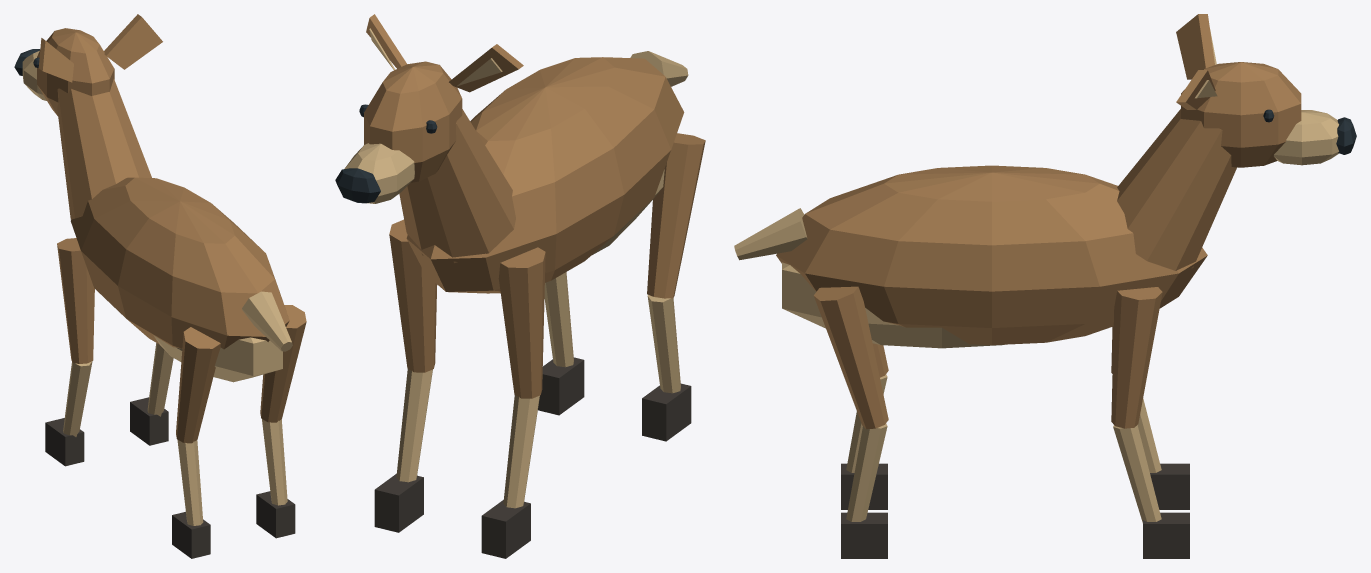
The model's file is deer-v3.glb.
3 renders of one model, left to right at view 1: azimuth 30°, elevation 25°; view 2: azimuth 150°, elevation 25°; view 3: azimuth 270°, elevation 25°, orthographic. The views are drawn at different scales.
Parts seen in each view (by area): view 1: Body, Neck, LegBL, LegFL, LegBR, Head, LegFR, EarR, Tail, EarL; view 2: Body, Head, LegFL, LegBL, Neck, LegFR, LegBR, EarL, EarR, Tail; view 3: Body, Neck, Head, LegBR, LegFR, LegFL, LegBL, Tail, EarL, EarR.
Part boxes in pixels (x1=…): Body: x1=70, y1=177, x2=289, y2=382; Neck: x1=57, y1=79, x2=151, y2=219; LegBL: x1=172, y1=327, x2=220, y2=558; LegFL: x1=45, y1=238, x2=94, y2=466; LegBR: x1=256, y1=305, x2=306, y2=538; Head: x1=14, y1=28, x2=114, y2=115; LegFR: x1=130, y1=343, x2=173, y2=445; EarR: x1=104, y1=14, x2=162, y2=69; Tail: x1=242, y1=291, x2=292, y2=351; EarL: x1=38, y1=38, x2=73, y2=82; Body: x1=406, y1=57, x2=684, y2=293; Head: x1=335, y1=61, x2=462, y2=203; LegFL: x1=481, y1=247, x2=545, y2=558; LegBL: x1=642, y1=133, x2=705, y2=441; Neck: x1=399, y1=109, x2=515, y2=263; LegFR: x1=374, y1=219, x2=437, y2=532; LegBR: x1=538, y1=272, x2=584, y2=415; EarL: x1=449, y1=44, x2=523, y2=92; EarR: x1=366, y1=14, x2=406, y2=70; Tail: x1=630, y1=51, x2=688, y2=86; Body: x1=776, y1=165, x2=1207, y2=348; Neck: x1=1117, y1=109, x2=1236, y2=270; Head: x1=1181, y1=62, x2=1356, y2=167; LegBR: x1=813, y1=286, x2=888, y2=558; LegFR: x1=1111, y1=287, x2=1189, y2=558; LegFL: x1=1111, y1=326, x2=1189, y2=509; LegBL: x1=841, y1=343, x2=888, y2=509; Tail: x1=734, y1=208, x2=807, y2=260; EarL: x1=1176, y1=14, x2=1216, y2=79; EarR: x1=1176, y1=70, x2=1217, y2=109.
Size of the model in its own units: 0.62 by 1.94 by 2.25.
